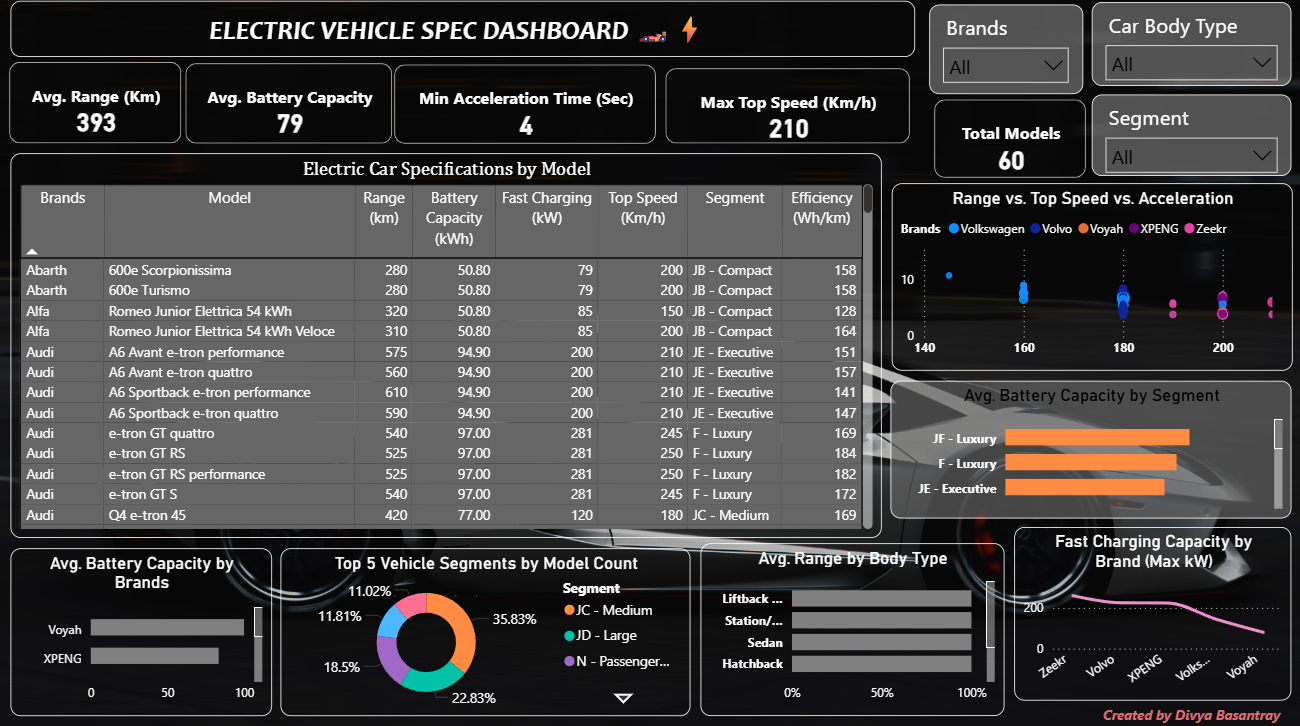

What the dashboard file says about the page in this screenshot:
{"tool":"powerbi","page":{"name":"Page 1","canvas":[1280,720],"ordinal":0},"visuals":[{"type":"cardVisual","fields":{"Data":["Electric Vehicles Specs.Average Range"]},"box":[6.1,58.9,179.1,90.8],"z":0},{"type":"barChart","title":"Avg. Battery Capacity by Brands","fields":{"Category":["Electric Vehicle Spec Dashboard – 2025 Overview.Brands"],"Y":["Electric Vehicle Spec Dashboard – 2025 Overview.Average Battery Capacity"]},"box":[12.3,541.1,256.4,164.4],"z":1000},{"type":"scatterChart","title":"Range vs. Top Speed vs. Acceleration","fields":{"Y":["Electric Vehicle Spec Dashboard – 2025 Overview.0-100 Acceleration (s)"],"X":["Electric Vehicle Spec Dashboard – 2025 Overview.Top Speed (Km/h)"],"Series":["Electric Vehicle Spec Dashboard – 2025 Overview.Brands"],"Size":["Sum(Electric Vehicle Spec Dashboard – 2025 Overview.Range (km))"]},"box":[877.3,182.8,393.9,184.1],"z":2000},{"type":"lineChart","title":"Fast Charging Capacity by Brand (Max kW)","fields":{"Category":["Electric Vehicles Specs.Brands"],"Y":["Max(Electric Vehicle Spec Dashboard – 2025 Overview.Fast Charging Power (kW))"]},"box":[997.6,520.2,272.4,170.6],"z":3000},{"type":"hundredPercentStackedBarChart","title":"Avg. Range by Body Type","fields":{"Category":["Electric Vehicle Spec Dashboard – 2025 Overview.Car Body Type"],"Y":["Electric Vehicle Spec Dashboard – 2025 Overview.Average Range (Km)"]},"box":[689.6,536.2,298.2,169.3],"z":4000},{"type":"clusteredBarChart","title":"Avg. Battery Capacity by Segment","fields":{"Category":["Electric Vehicles Specs.Segment"],"Y":["Electric Vehicle Spec Dashboard – 2025 Overview.Average Battery Capacity"]},"box":[876.1,376.7,393.9,135],"z":5000},{"type":"donutChart","title":"Top 5 Vehicle Segments by Model Count","fields":{"Category":["Electric Vehicle Spec Dashboard – 2025 Overview.Segment"],"Y":["Count(Electric Vehicle Spec Dashboard – 2025 Overview.Model)"]},"box":[277.3,541.1,402.5,164.4],"z":6000},{"type":"cardVisual","fields":{"Data":["Electric Vehicles Specs.Average Battery Capacity"]},"box":[179.1,60.1,213.5,89.6],"z":7000},{"type":"cardVisual","fields":{"Data":["Electric Vehicles Specs.Max Top Speed"]},"box":[650.3,65,250.3,84.7],"z":8000},{"type":"slicer","fields":{"Values":["Electric Vehicles Specs.Brands"]},"box":[914.1,7.4,150.9,88.3],"z":9000},{"type":"slicer","fields":{"Values":["Electric Vehicle Spec Dashboard – 2025 Overview.Car Body Type"]},"box":[1073.6,4.9,196.3,82.2],"z":10000},{"type":"slicer","fields":{"Values":["Electric Vehicle Spec Dashboard – 2025 Overview.Segment"]},"box":[1073.6,95.7,196.3,79.8],"z":11000},{"type":"tableEx","title":"Electric Car Specifications by Model","fields":{"Values":["Electric Vehicles Specs.Brands","Electric Vehicle Spec Dashboard – 2025 Overview.Model","Electric Vehicle Spec Dashboard – 2025 Overview.Range (km)","Electric Vehicle Spec Dashboard – 2025 Overview.Battery Capacity (kWh)","Electric Vehicle Spec Dashboard – 2025 Overview.Fast Charging Power (kW)","Electric Vehicle Spec Dashboard – 2025 Overview.Top Speed (Km/h)","Electric Vehicle Spec Dashboard – 2025 Overview.Segment","Electric Vehicle Spec Dashboard – 2025 Overview.Efficiency (Wh/km)"]},"box":[12.3,153.4,855.2,377.9],"z":12000},{"type":"textbox","box":[12.3,3.7,888.3,55.2],"z":13000},{"type":"cardVisual","fields":{"Data":["Electric Vehicle Spec Dashboard – 2025 Overview.Min Acceleration"]},"box":[384.1,61.4,267.5,88.3],"z":14000},{"type":"cardVisual","fields":{"Data":["Electric Vehicle Spec Dashboard – 2025 Overview.Total Models"]},"box":[914.1,95.7,159.5,87.1],"z":15000},{"type":"textbox","box":[1079.8,690.8,190.2,29.4],"z":16000}]}

Visuals, with their boxes in screenshot pixels (x1, y1, x2, y2), scaled from the page's 1280x720 canvas onto the 1300x726 screenshot:
cardVisual - Electric Vehicles Specs.Average Range: bbox=(6, 59, 188, 151)
"Avg. Battery Capacity by Brands" barChart: bbox=(12, 546, 273, 711)
"Range vs. Top Speed vs. Acceleration" scatterChart: bbox=(891, 184, 1291, 370)
"Fast Charging Capacity by Brand (Max kW)" lineChart: bbox=(1013, 525, 1290, 697)
"Avg. Range by Body Type" hundredPercentStackedBarChart: bbox=(700, 541, 1003, 711)
"Avg. Battery Capacity by Segment" clusteredBarChart: bbox=(890, 380, 1290, 516)
"Top 5 Vehicle Segments by Model Count" donutChart: bbox=(282, 546, 690, 711)
cardVisual - Electric Vehicles Specs.Average Battery Capacity: bbox=(182, 61, 399, 151)
cardVisual - Electric Vehicles Specs.Max Top Speed: bbox=(660, 66, 915, 151)
slicer - Electric Vehicles Specs.Brands: bbox=(928, 7, 1082, 96)
slicer - Electric Vehicle Spec Dashboard – 2025 Overview.Car Body Type: bbox=(1090, 5, 1290, 88)
slicer - Electric Vehicle Spec Dashboard – 2025 Overview.Segment: bbox=(1090, 96, 1290, 177)
"Electric Car Specifications by Model" tableEx: bbox=(12, 155, 881, 536)
textbox: bbox=(12, 4, 915, 59)
cardVisual - Electric Vehicle Spec Dashboard – 2025 Overview.Min Acceleration: bbox=(390, 62, 662, 151)
cardVisual - Electric Vehicle Spec Dashboard – 2025 Overview.Total Models: bbox=(928, 96, 1090, 184)
textbox: bbox=(1097, 697, 1290, 725)
